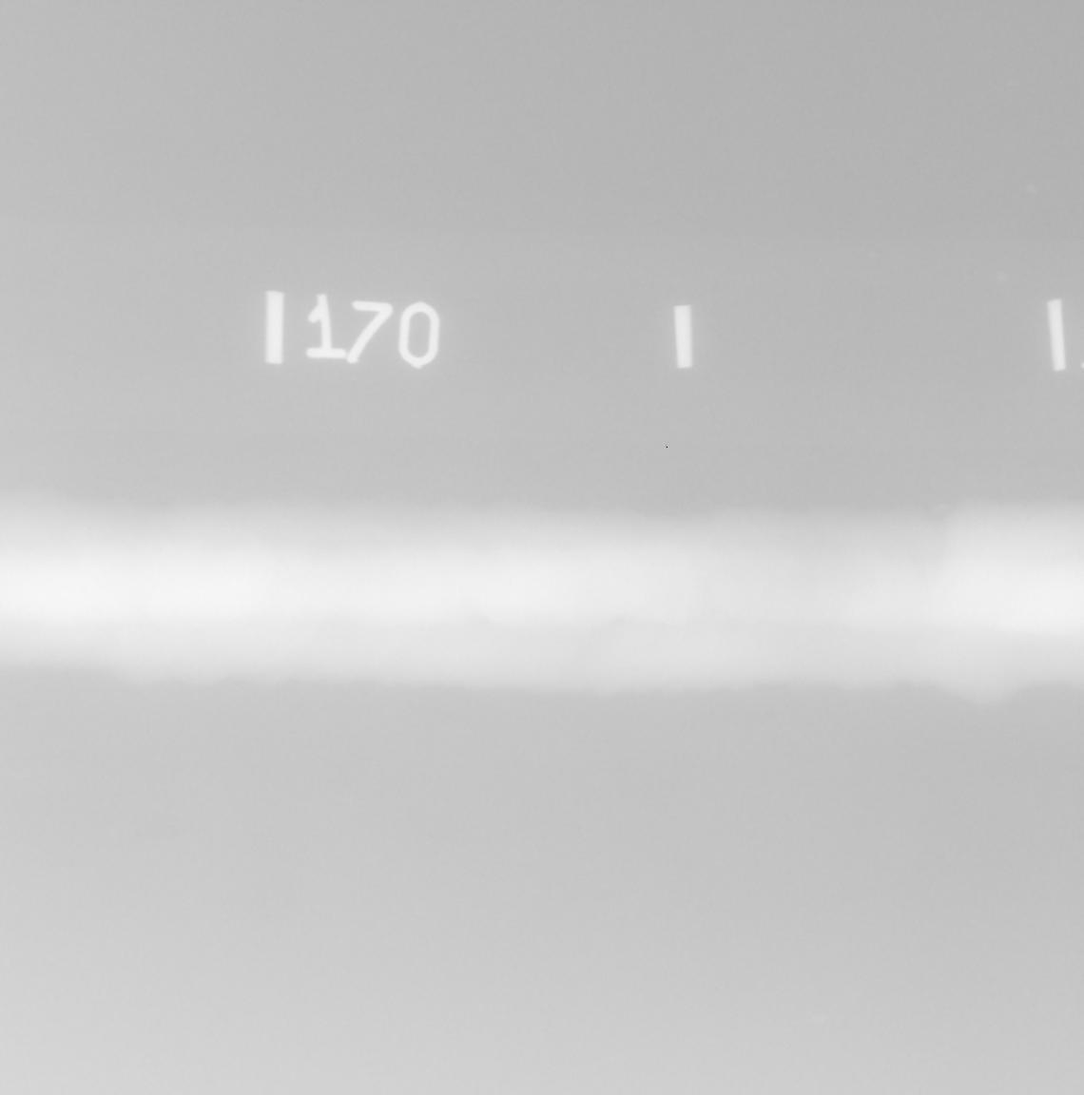Pore/Porosity: (276, 569, 282, 576), (279, 559, 284, 565), (289, 556, 292, 560), (286, 565, 289, 569)
